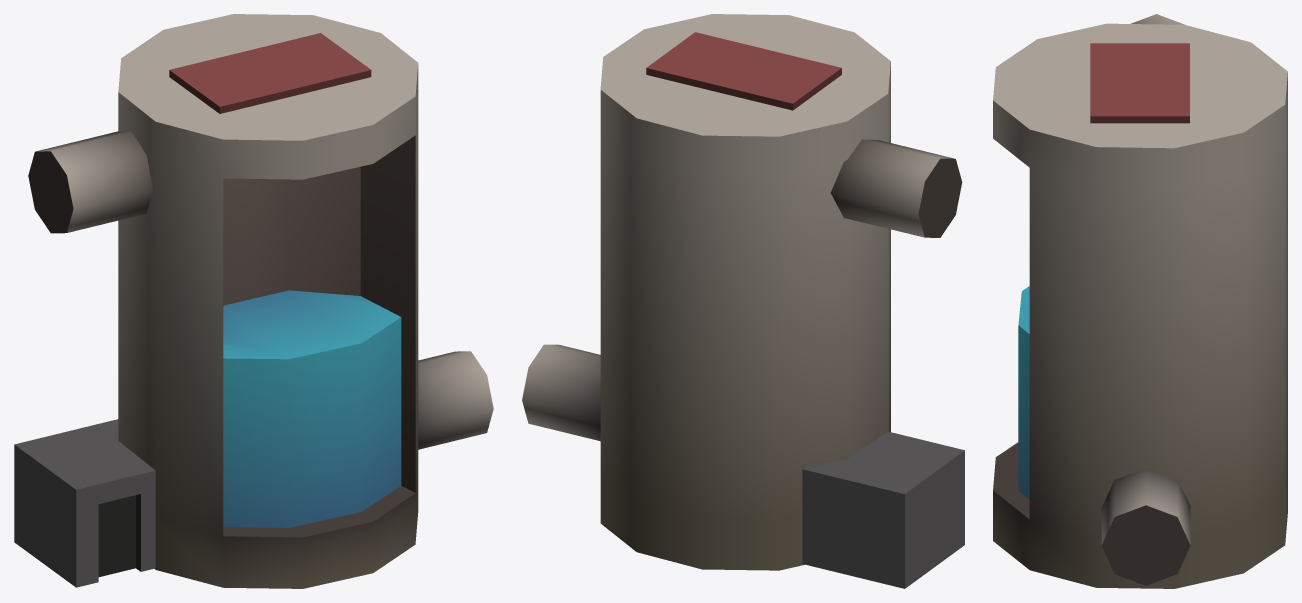
Rendered from Icono3D_Lumbrera.fbx.
3 views of the same model, side by side, from view 1: azimuth 30°, elevation 25°; view 2: azimuth 150°, elevation 25°; view 3: azimuth 270°, elevation 25° (orthographic). The views are drawn at different scales.
Parts seen in each view (by area): view 1: Cylinder.002, Cylinder.005, Cube.004, Cylinder.004, Cube.001, Cylinder.003; view 2: Cylinder.002, Cube.004, Cylinder.004, Cube.001, Cylinder.003; view 3: Cylinder.002, Cylinder.003, Cube.001, Cylinder.005.
Boxes of the visible parts, x1,y1,x2,y2 form: Cylinder.002: (118, 14, 418, 588); Cylinder.005: (223, 290, 401, 527); Cube.004: (14, 419, 155, 587); Cylinder.004: (28, 131, 152, 233); Cube.001: (169, 33, 371, 113); Cylinder.003: (418, 351, 493, 449); Cylinder.002: (600, 14, 890, 570); Cube.004: (802, 431, 964, 588); Cylinder.004: (830, 139, 962, 237); Cube.001: (646, 32, 841, 110); Cylinder.003: (522, 344, 600, 441); Cylinder.002: (993, 23, 1287, 588); Cylinder.003: (1101, 468, 1190, 585); Cube.001: (1090, 43, 1189, 123); Cylinder.005: (1018, 286, 1029, 499).
Size of the model in its own units: 184 by 115 by 193.
